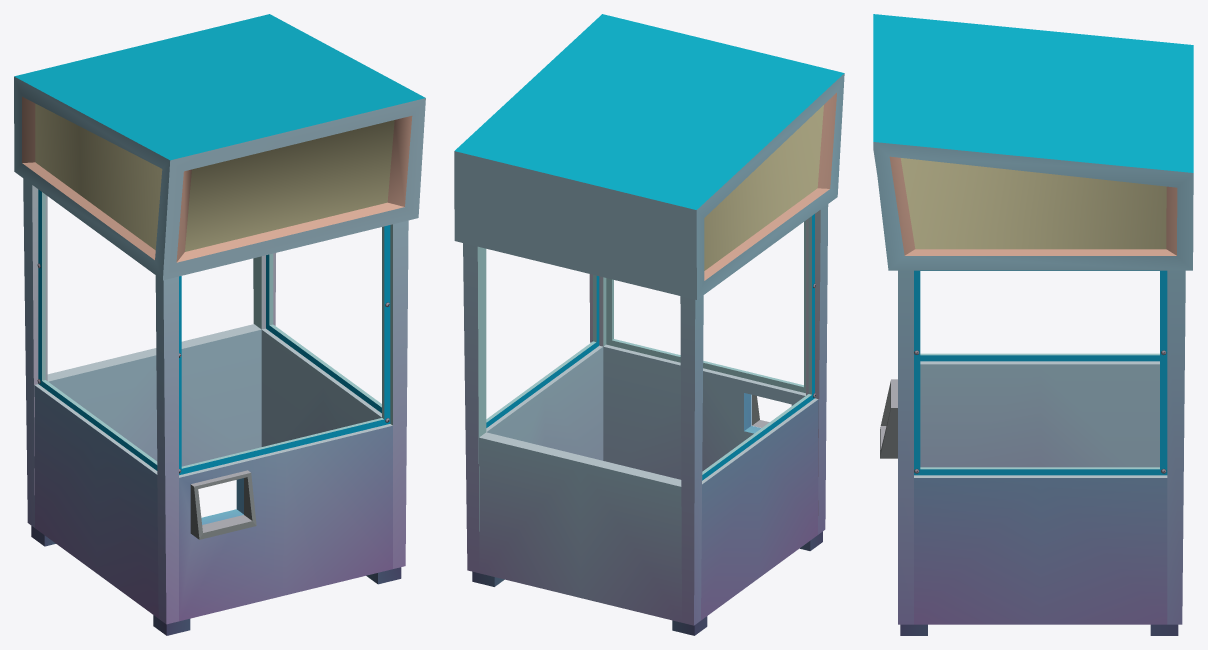
File: walls.glb
The picture shows the model from 3 angles, left to right: view 1: azimuth 30°, elevation 25°; view 2: azimuth 150°, elevation 25°; view 3: azimuth 270°, elevation 25°; orthographic projection. The views are drawn at different scales.
Visible parts, largest first — view 1: walls; view 2: walls; view 3: walls.
Part boxes in pixels (left/top/right/bottom): walls: left=14, top=14, right=425, bottom=635; walls: left=454, top=14, right=844, bottom=635; walls: left=873, top=14, right=1193, bottom=635.
Bounding box in the file's own units: 13.55 × 24.67 × 14.33.
